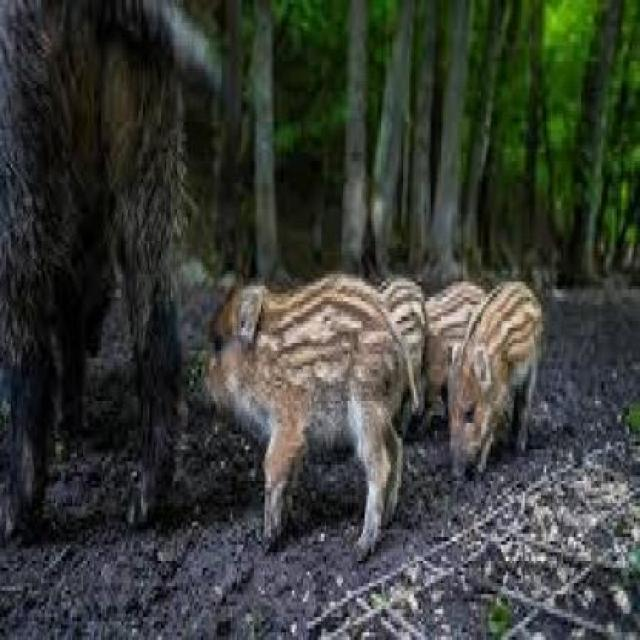wildboar: (0, 0, 226, 560), (194, 257, 418, 563), (288, 260, 428, 455), (446, 268, 546, 490), (403, 268, 506, 434)
